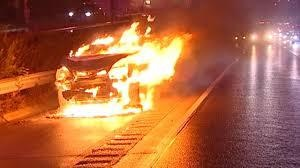fire: (54, 19, 180, 121)
